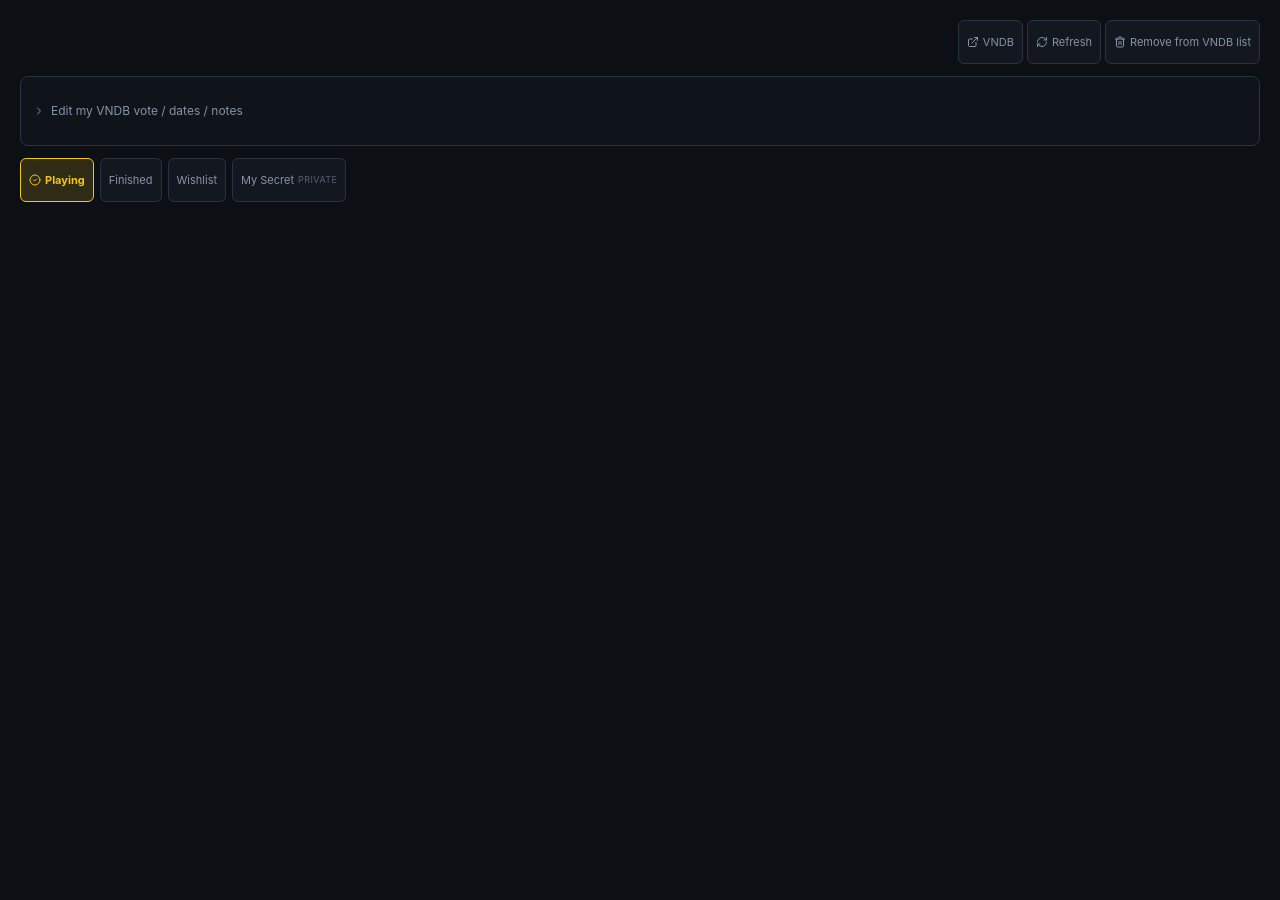
Scenario: VndbStatusPanel branches › sets a label that is not yet active (labels_set path)
Click the button "Finished". click: x=131, y=180
box: x1=100 y1=158 x2=162 y2=202
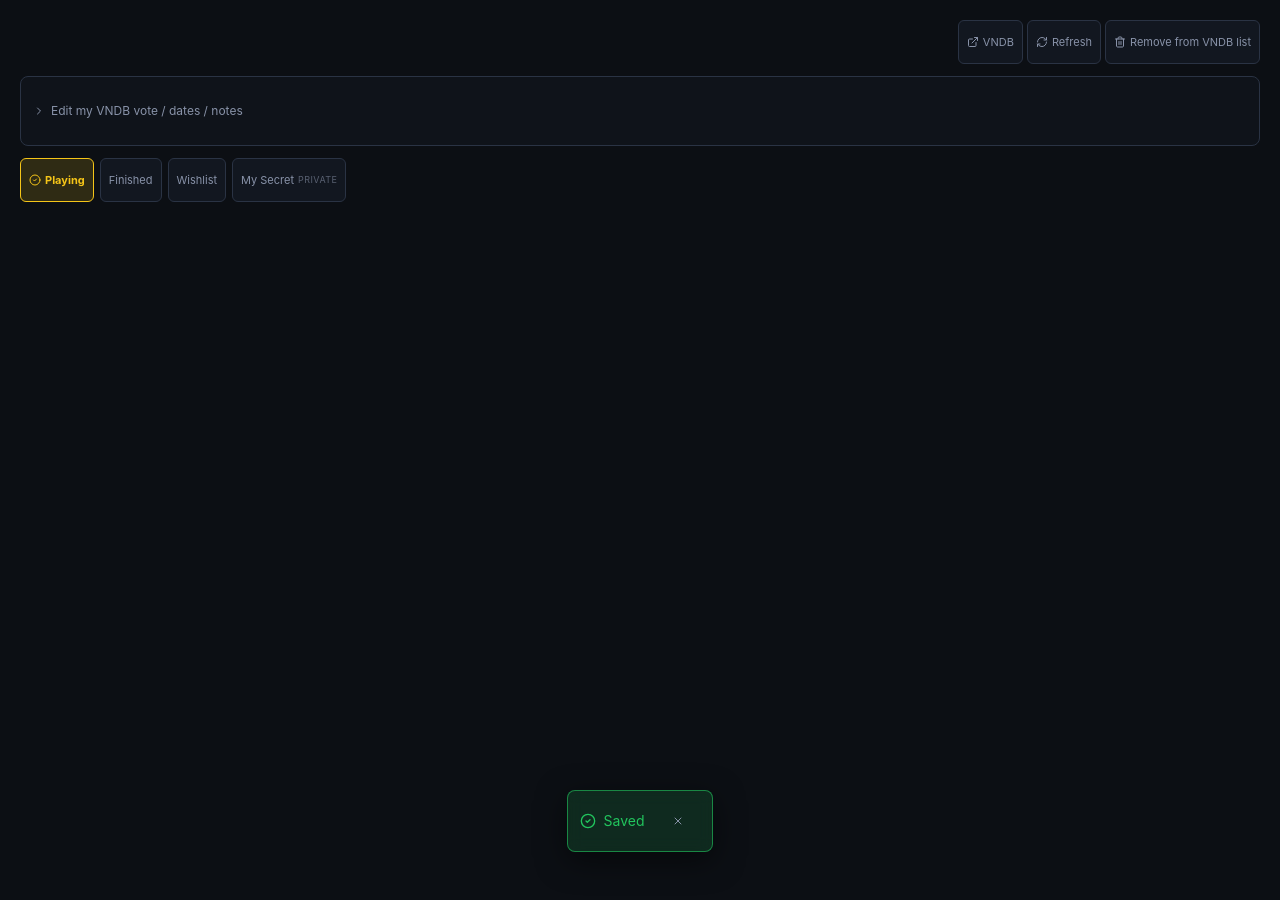
Now the text "Saved" is shown, box x1=604 y1=811 x2=644 y2=831
